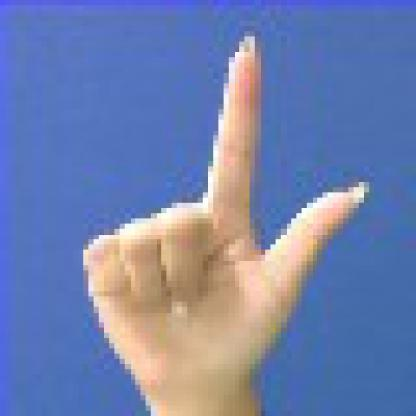seven: (62, 15, 390, 410)
